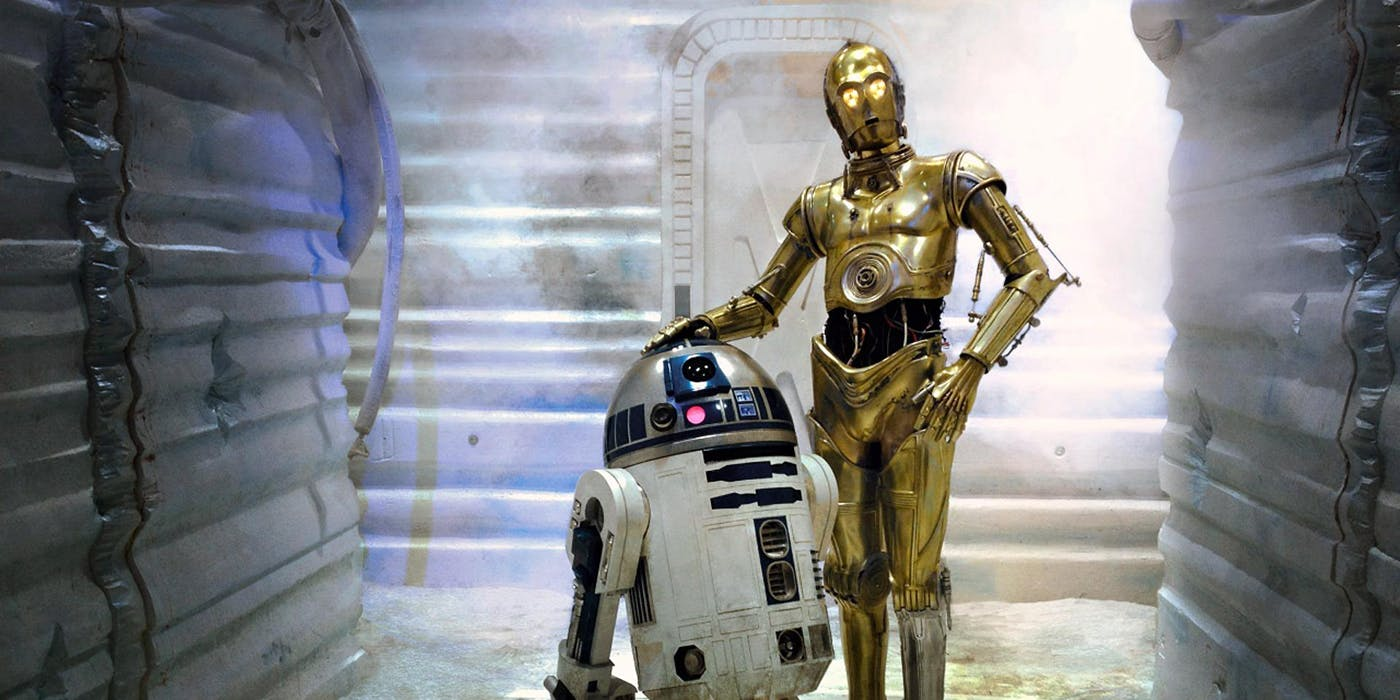r2d2: (573, 348, 833, 700)
